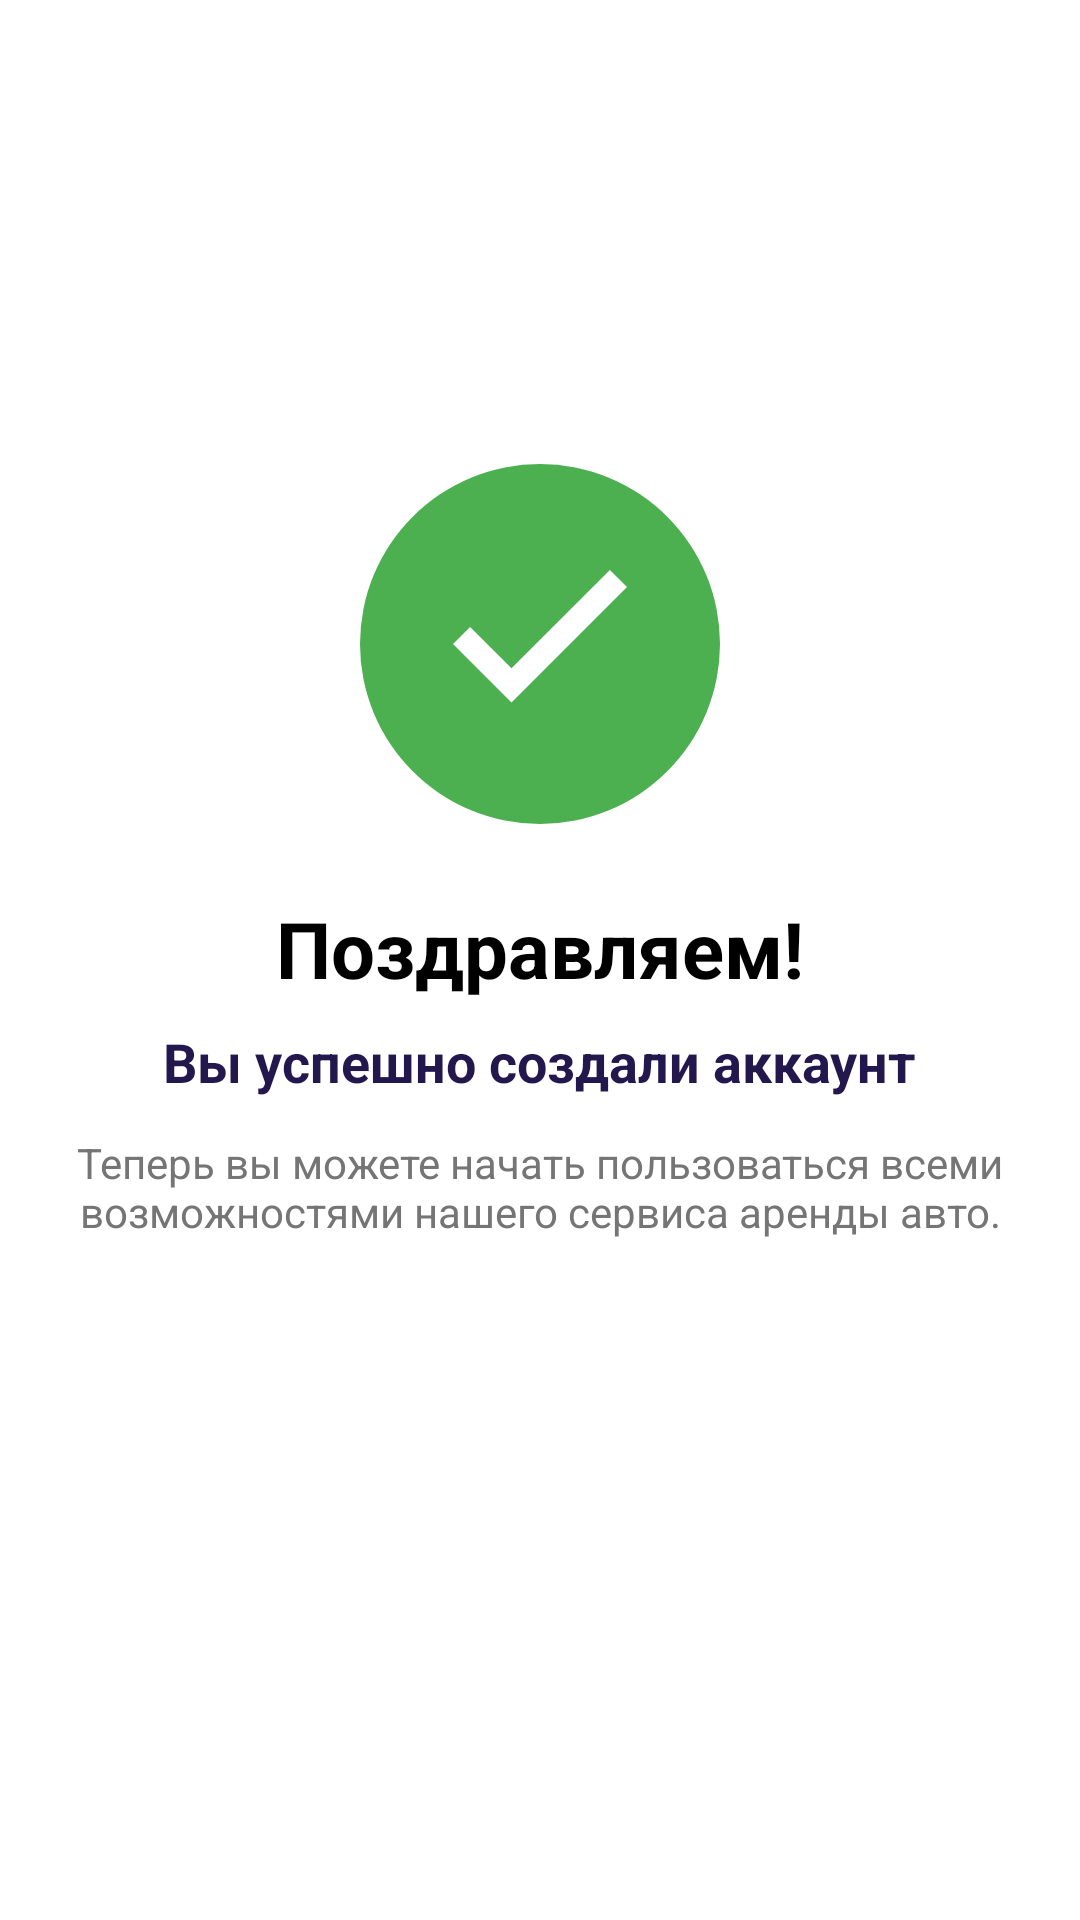

Screen size 1080x1920. Icon name, then its center in pixels as point (x, y):
success circle: point (540, 644)
